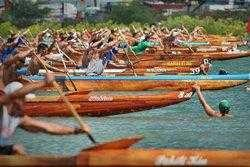kayak: (17, 90, 193, 117), (1, 133, 143, 165), (54, 71, 249, 93)
